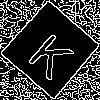K: (25, 24, 82, 82)
